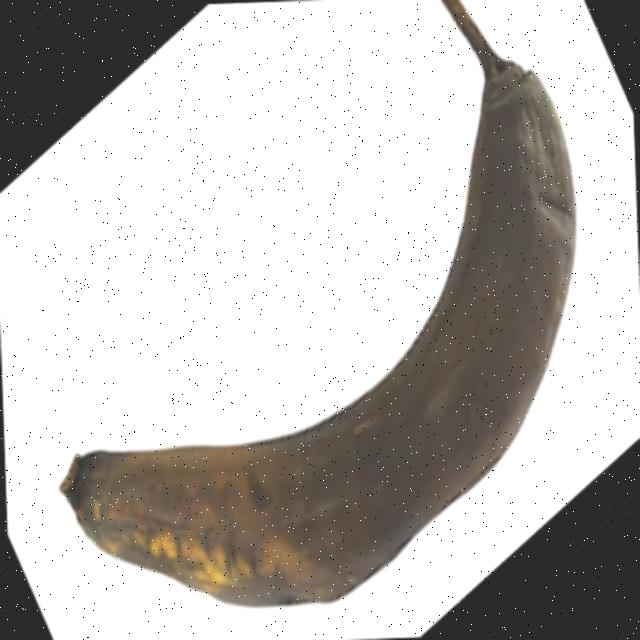Rotten: (31, 0, 624, 626)
